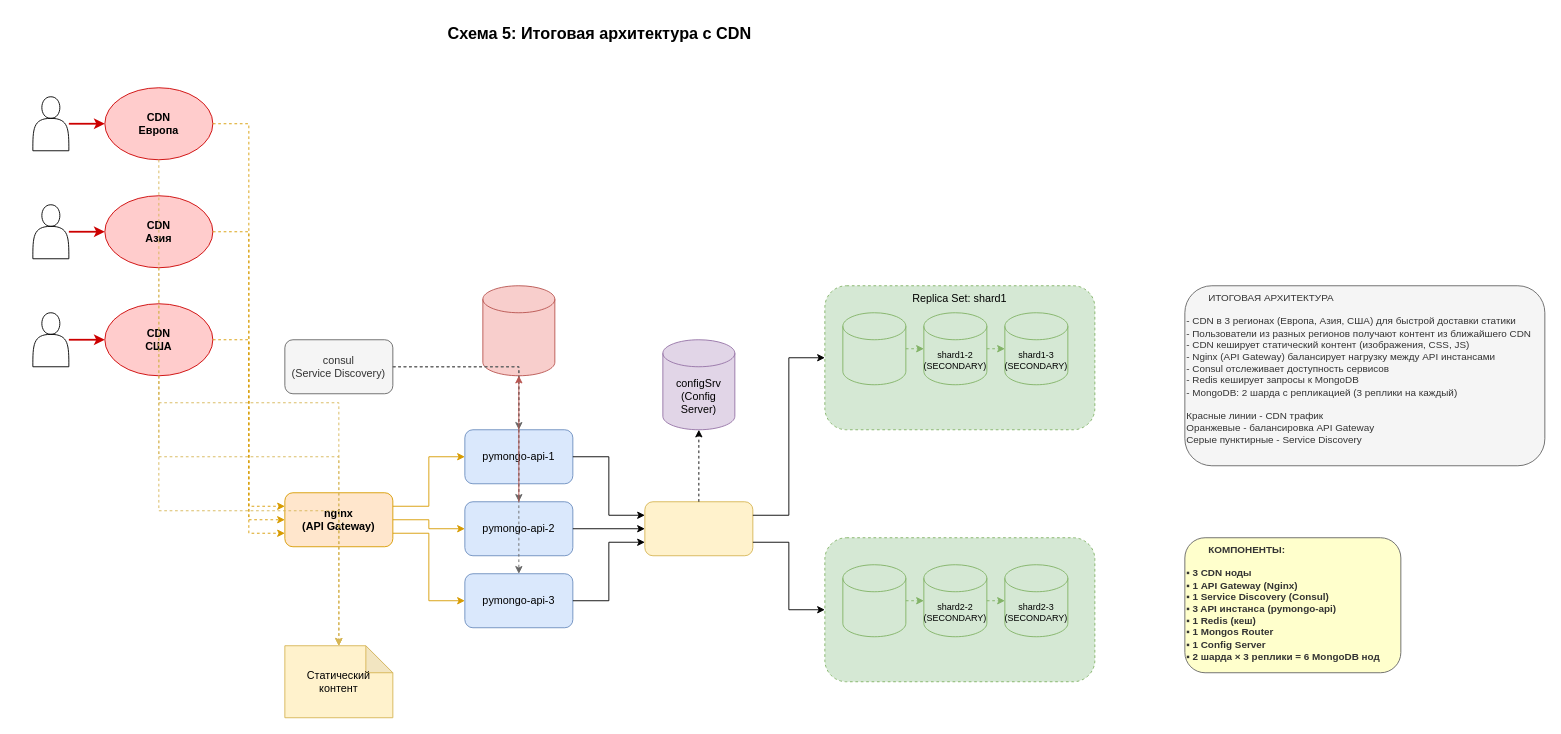
The diagram is 1561 pixels wide and 734 high, and some of its shapes have lost their labels. Here are the shapes that lost their labels. From the top down, the box of each, then its label:
(32, 96, 69, 151): Пользователи Европа
(32, 204, 69, 259): Пользователи Азия
(32, 312, 69, 367): Пользователи США
(482, 285, 555, 376): redis (Cache)
(842, 312, 906, 385): shard1-1 (PRIMARY)
(644, 501, 753, 556): mongos_router (Router)
(842, 564, 906, 637): shard2-1 (PRIMARY)
(824, 537, 1095, 682): Replica Set: shard2
